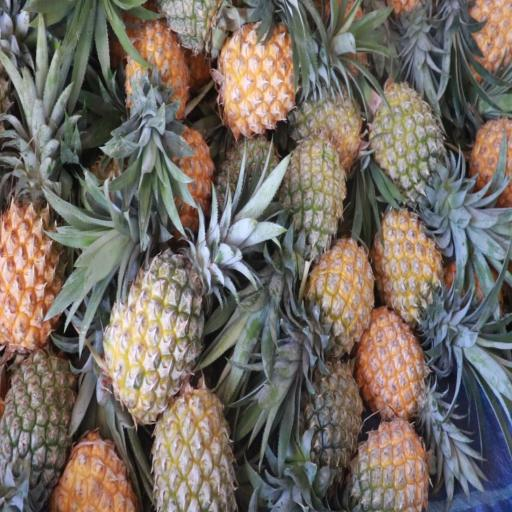------------------------------: (105, 256, 207, 415), (153, 386, 235, 512)
Pineapple - v8 v1: (0, 192, 69, 342), (217, 22, 299, 128), (372, 211, 445, 325), (358, 310, 428, 422), (123, 21, 189, 125), (310, 242, 374, 349), (58, 428, 134, 512), (154, 128, 212, 224)
